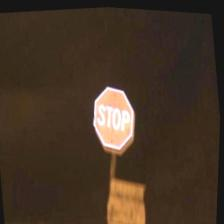Stop: (88, 80, 140, 154)
